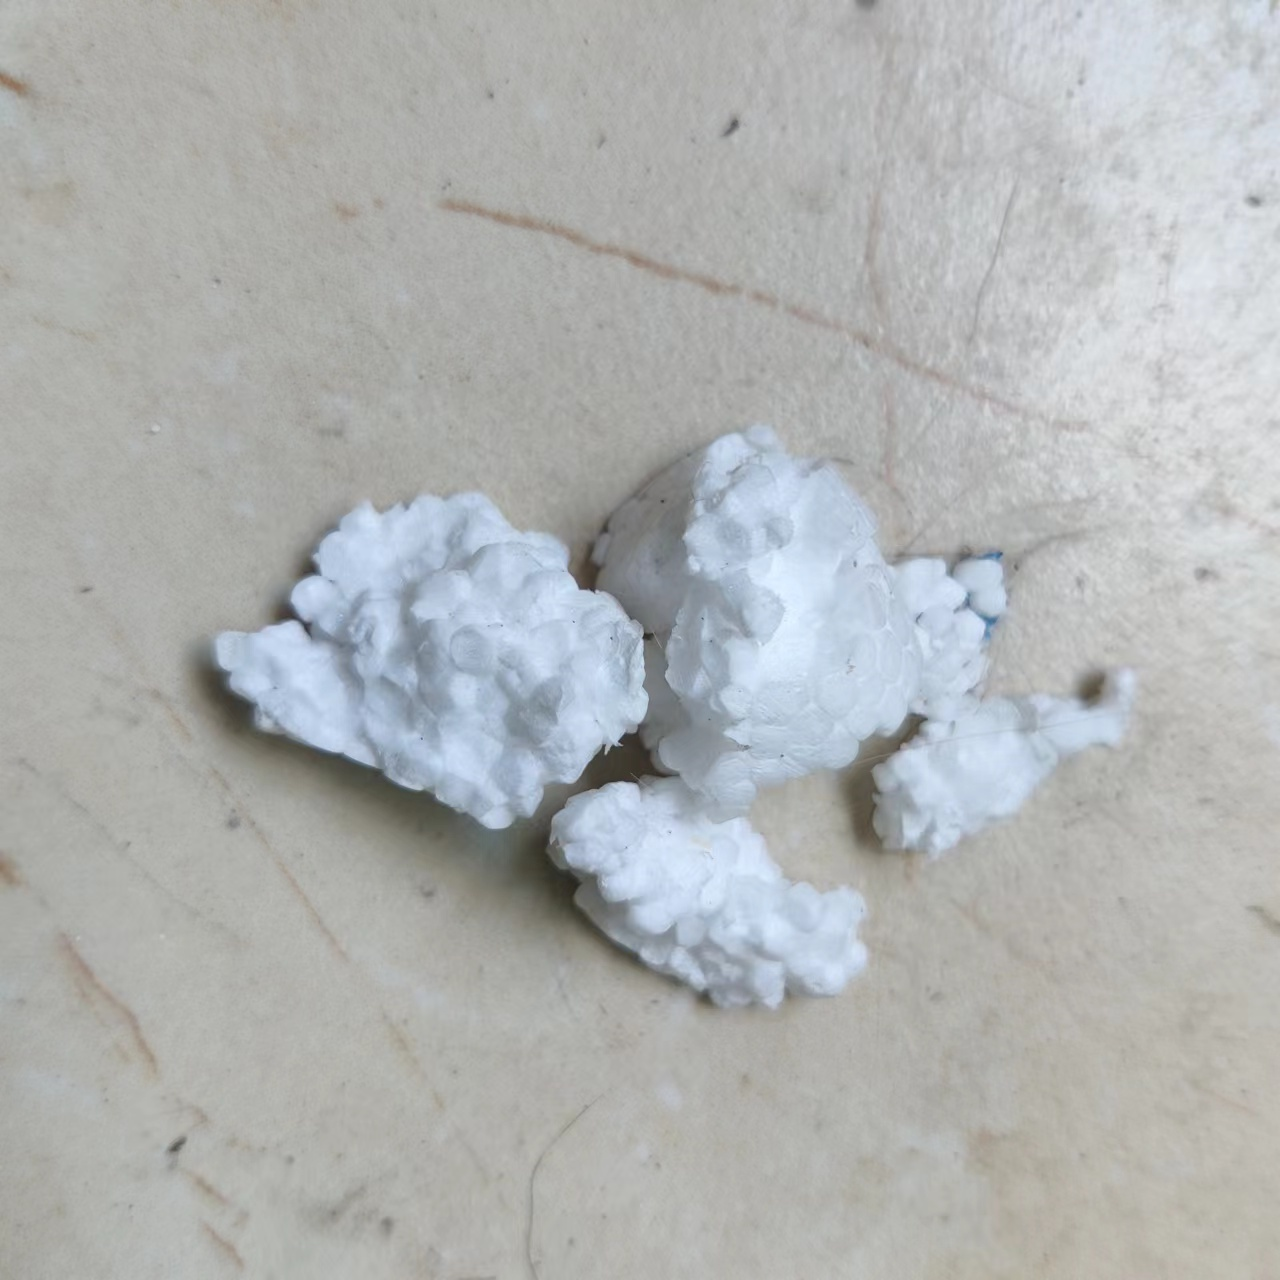5/可回收垃圾/泡沫: (209, 491, 651, 831), (592, 421, 920, 818), (545, 775, 869, 1012), (869, 669, 1137, 862), (894, 549, 1008, 716)
